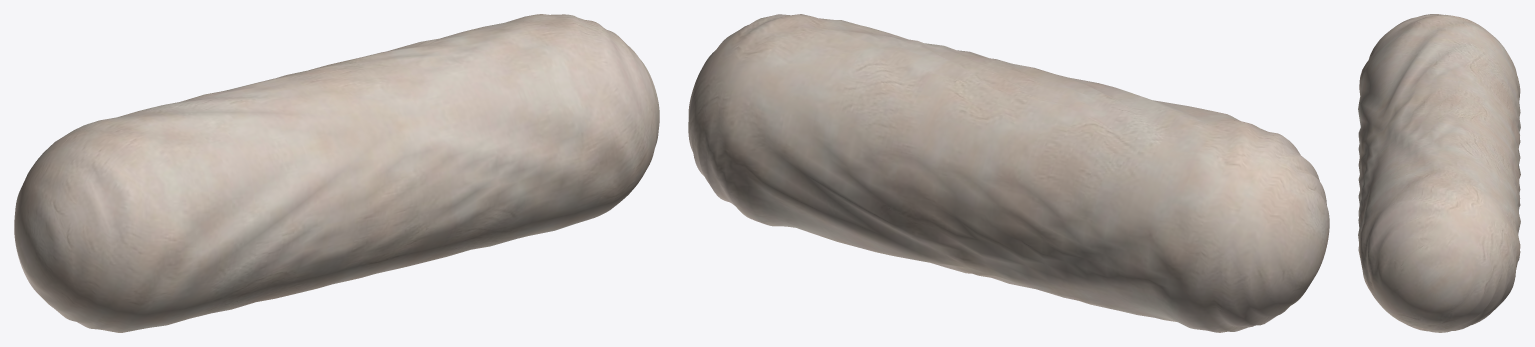
The model's file is ColdCuttingMeat.obj.
3 renders of one model, left to right at view 1: azimuth 30°, elevation 25°; view 2: azimuth 150°, elevation 25°; view 3: azimuth 270°, elevation 25°, orthographic. The views are drawn at different scales.
Visible parts, largest first — view 1: ColdCuttingMeat; view 2: ColdCuttingMeat; view 3: ColdCuttingMeat.
Boxes of the visible parts, x1,y1,x2,y2 form: ColdCuttingMeat: (14,14,659,332); ColdCuttingMeat: (688,14,1329,332); ColdCuttingMeat: (1358,14,1520,332).
Size of the model in its own units: 0.2032 by 0.0621 by 0.0621.
1 material, 1 textured.
